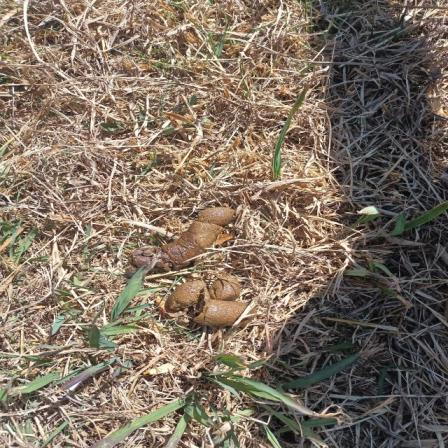dog-poop: (128, 203, 242, 265), (158, 278, 260, 324)
